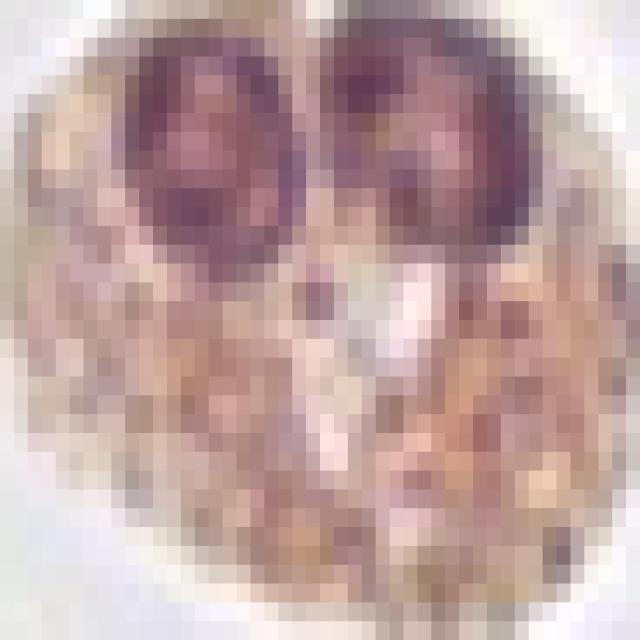cytoplasm: (0, 0, 626, 621)
nucleus: (90, 10, 317, 317)
